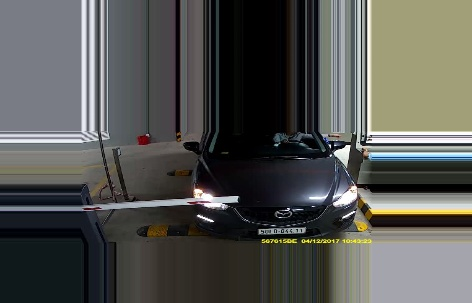plate: (259, 223, 305, 235)
